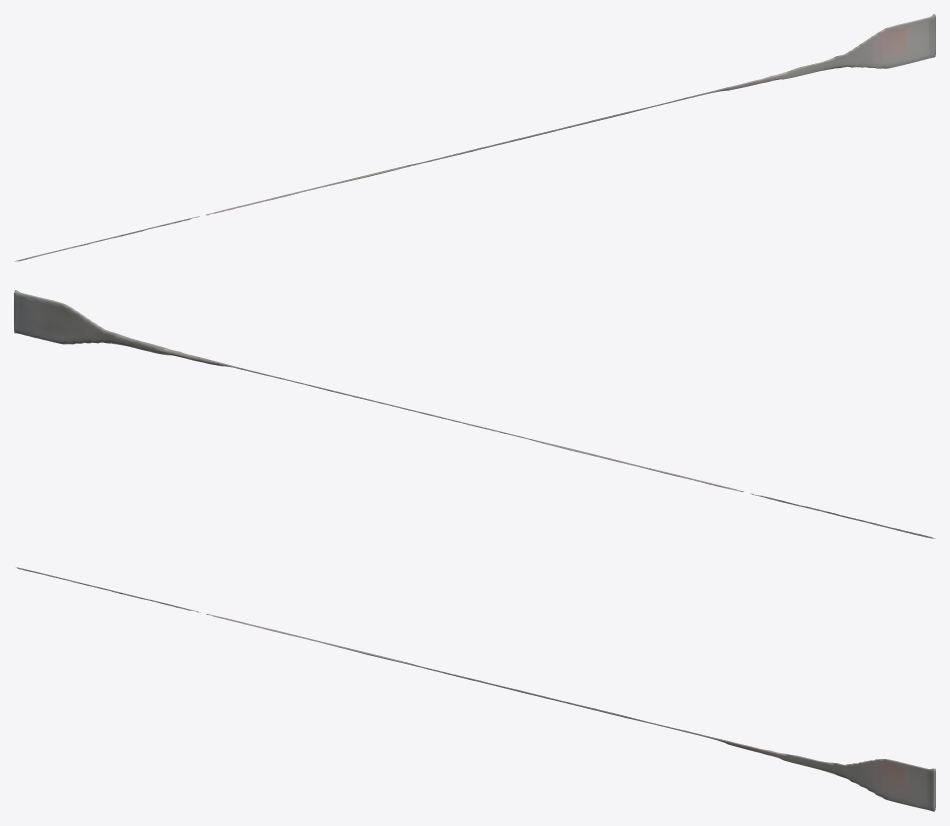
File: video-studio-room.glb
3 renders of one model, top to bottom at view 1: azimuth 30°, elevation 25°; view 2: azimuth 150°, elevation 25°; view 3: azimuth 330°, elevation 25°, orthographic.
Visible parts, largest first — view 1: tripo_node_f353d06e-5d17-4ec1-80a6-0768d10de228; view 2: tripo_node_f353d06e-5d17-4ec1-80a6-0768d10de228; view 3: tripo_node_f353d06e-5d17-4ec1-80a6-0768d10de228.
Part boxes in pixels (box(x1,y1,x2,y2)): tripo_node_f353d06e-5d17-4ec1-80a6-0768d10de228: box(14, 14, 935, 261); tripo_node_f353d06e-5d17-4ec1-80a6-0768d10de228: box(14, 290, 935, 538); tripo_node_f353d06e-5d17-4ec1-80a6-0768d10de228: box(16, 567, 935, 811).
Size of the model in its own units: 0.9979 by 0.0445 by 0.00395.
1 material, 1 textured.
